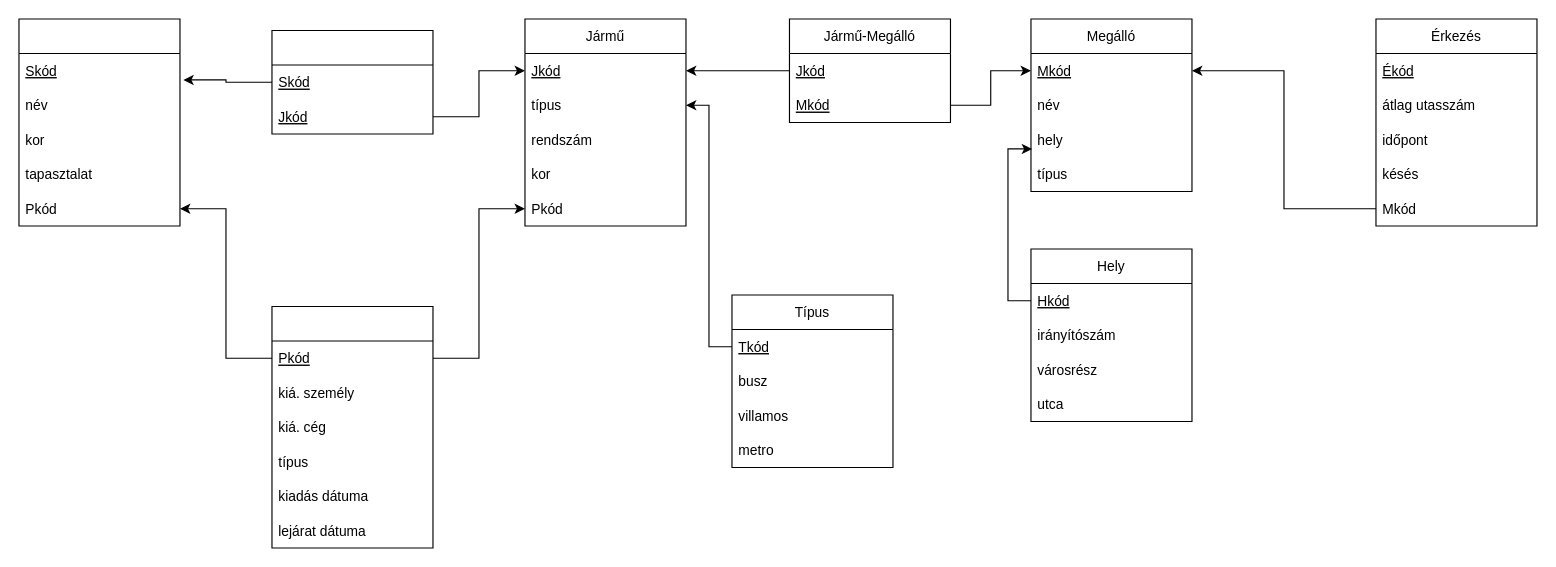
The diagram is 1556 pixels wide and 567 high, and some of its shapes have lost their labels. Each missing label, with the box of its shape:
Papír: (271, 305, 433, 548)
Sofőr: (18, 18, 180, 226)
Sofőr-Jármű: (271, 29, 433, 134)
